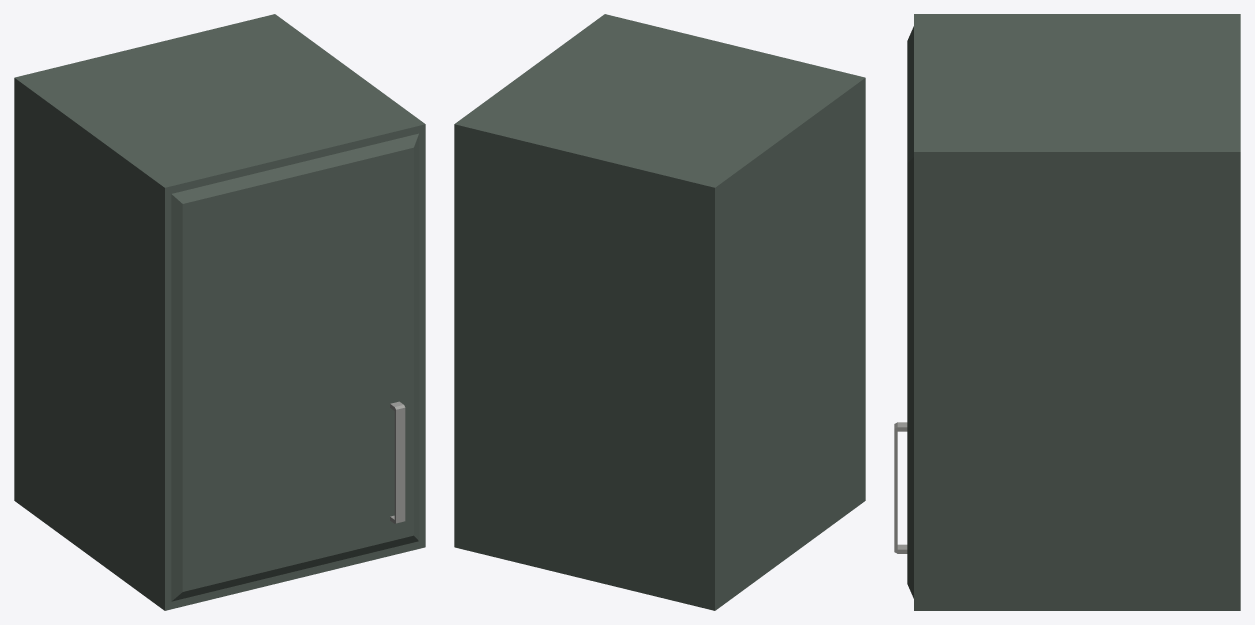
File: Kitchen_Cabinet1.glb
3 renders of one model, left to right at view 1: azimuth 30°, elevation 25°; view 2: azimuth 150°, elevation 25°; view 3: azimuth 270°, elevation 25°, orthographic. The views are drawn at different scales.
Parts seen in each view (by area): view 1: Kitchen_Cabinet1; view 2: Kitchen_Cabinet1; view 3: Kitchen_Cabinet1.
Boxes of the visible parts, x1,y1,x2,y2 form: Kitchen_Cabinet1: [14, 14, 425, 610]; Kitchen_Cabinet1: [454, 14, 865, 610]; Kitchen_Cabinet1: [894, 14, 1240, 610].
Size of the model in its own units: 0.4943 by 0.7663 by 0.5239.
2 materials, 2 textured.
